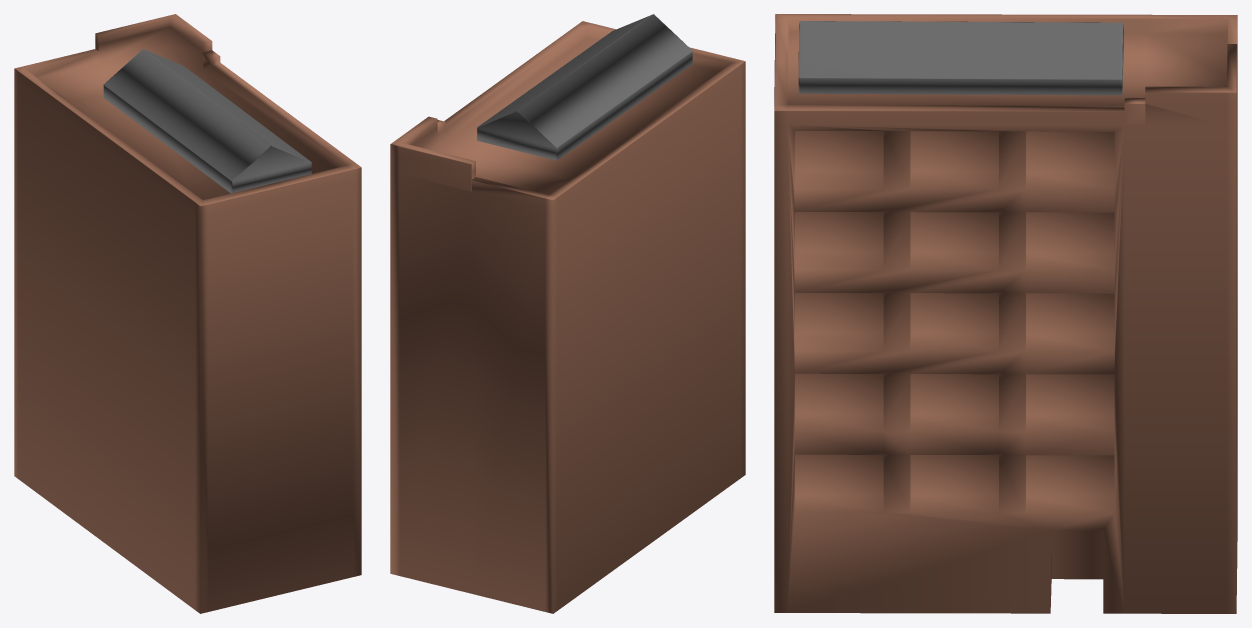
The model's file is building-2.glb.
The picture shows the model from 3 angles, left to right: view 1: azimuth 30°, elevation 25°; view 2: azimuth 150°, elevation 25°; view 3: azimuth 270°, elevation 25°; orthographic projection. The views are drawn at different scales.
Parts seen in each view (by area): view 1: Cube.001, Cube.020; view 2: Cube.001, Cube.020; view 3: Cube.001, Cube.020.
Part boxes in pixels (bbox=[...]): Cube.001: bbox=[14, 14, 361, 613]; Cube.020: bbox=[103, 49, 311, 193]; Cube.001: bbox=[390, 21, 745, 613]; Cube.020: bbox=[477, 14, 692, 160]; Cube.001: bbox=[774, 14, 1237, 613]; Cube.020: bbox=[798, 21, 1123, 95].
Size of what is drawn, in the model's own units: 0.6801 by 1.76 by 1.36.
